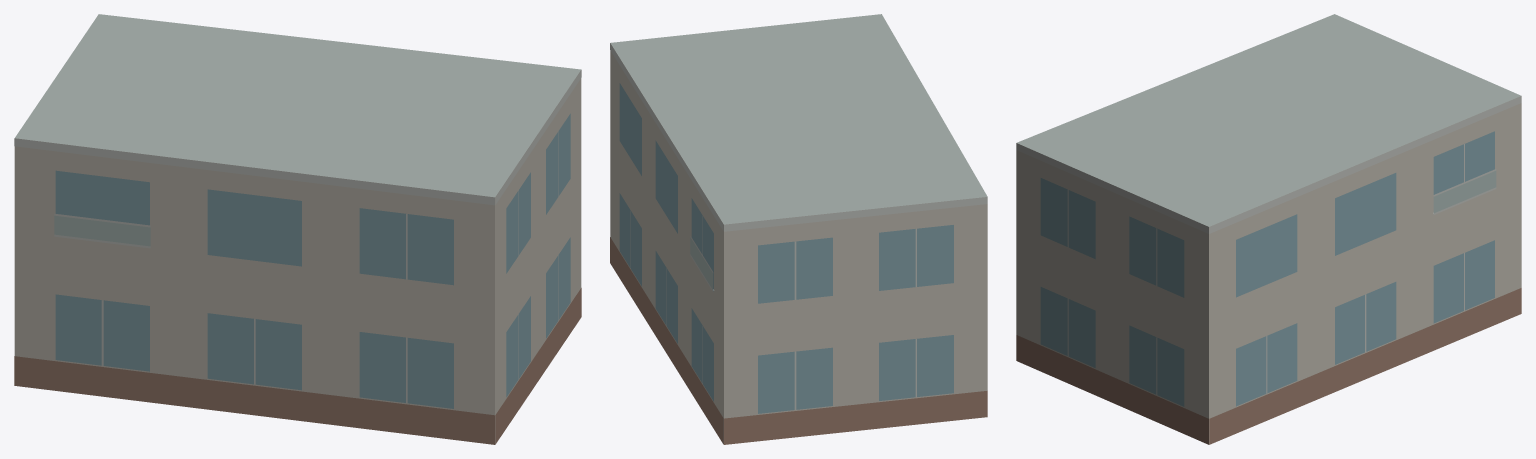
The model's file is survey-upis-32980472.glb.
The picture shows the model from 3 angles, left to right: view 1: azimuth 30°, elevation 25°; view 2: azimuth 150°, elevation 25°; view 3: azimuth 270°, elevation 25°; orthographic projection. The views are drawn at different scales.
Parts seen in each view (by area): view 1: survey-upis-32980472.tmp; view 2: survey-upis-32980472.tmp; view 3: survey-upis-32980472.tmp.
Boxes of the visible parts, x1,y1,x2,y2 form: survey-upis-32980472.tmp: [14, 14, 581, 444]; survey-upis-32980472.tmp: [610, 14, 987, 444]; survey-upis-32980472.tmp: [1016, 14, 1521, 444].
Bounding box in the file's own units: 15.73 × 7.5 × 15.77.
